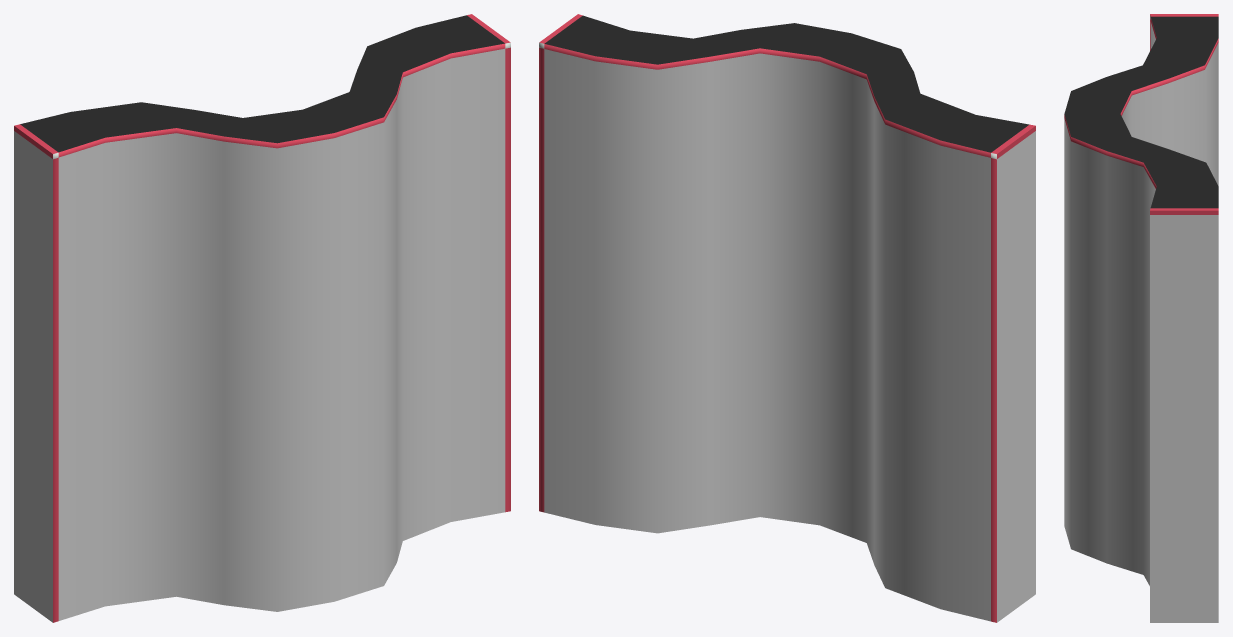
Rendered from Facade12_2.fbx.
The picture shows the model from 3 angles, left to right: view 1: azimuth 30°, elevation 25°; view 2: azimuth 150°, elevation 25°; view 3: azimuth 270°, elevation 25°; orthographic projection. The views are drawn at different scales.
Parts seen in each view (by area): view 1: Facade12_2; view 2: Facade12_2; view 3: Facade12_2.
Part boxes in pixels (bbox=[...]): Facade12_2: bbox=[14, 14, 510, 622]; Facade12_2: bbox=[539, 14, 1035, 622]; Facade12_2: bbox=[1064, 14, 1218, 622].
Bounding box in the file's own units: 2948 × 8701 × 8893.
